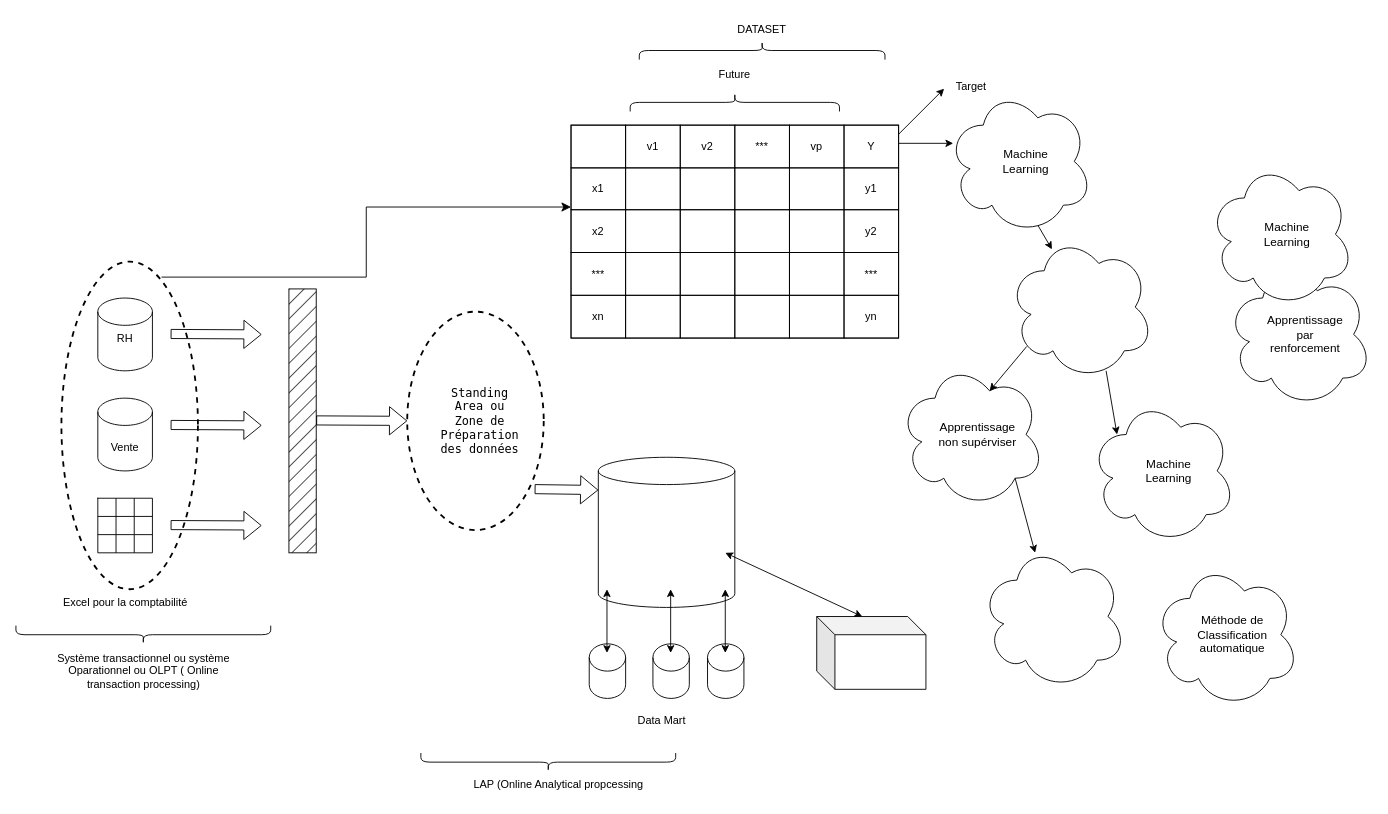
This 1388x814 diagram has some shape labels left out. The box of each missing label's shape, as (x1, y1, x2, y2) in pixels:
Apprentissage Automatique: (1007, 233, 1153, 380)
DataWarehouse: (597, 456, 735, 607)
Méthode fonctionnelles: (980, 543, 1126, 689)
